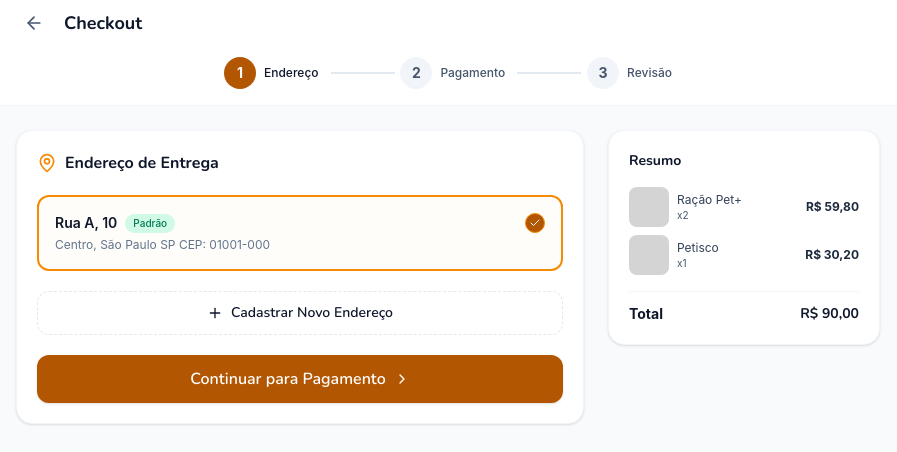
Test: modo simulado: avisa que nada é cobrado e não pede dados de cartão (P5)
Click the button "Continuar para Pagamento". click: (300, 379)
box: [37,355,563,403]
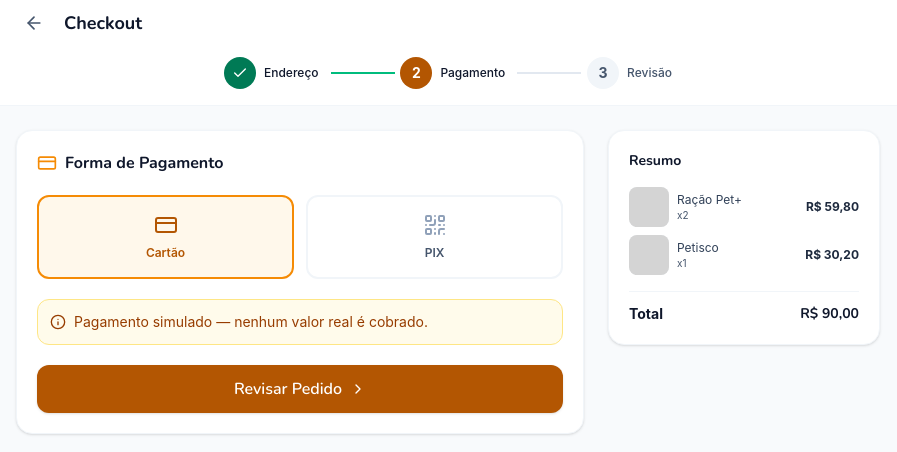
expect the text "Pagamento simulado — nenhum valor real é cobrado." is shown: met, box [74,312,428,332]
